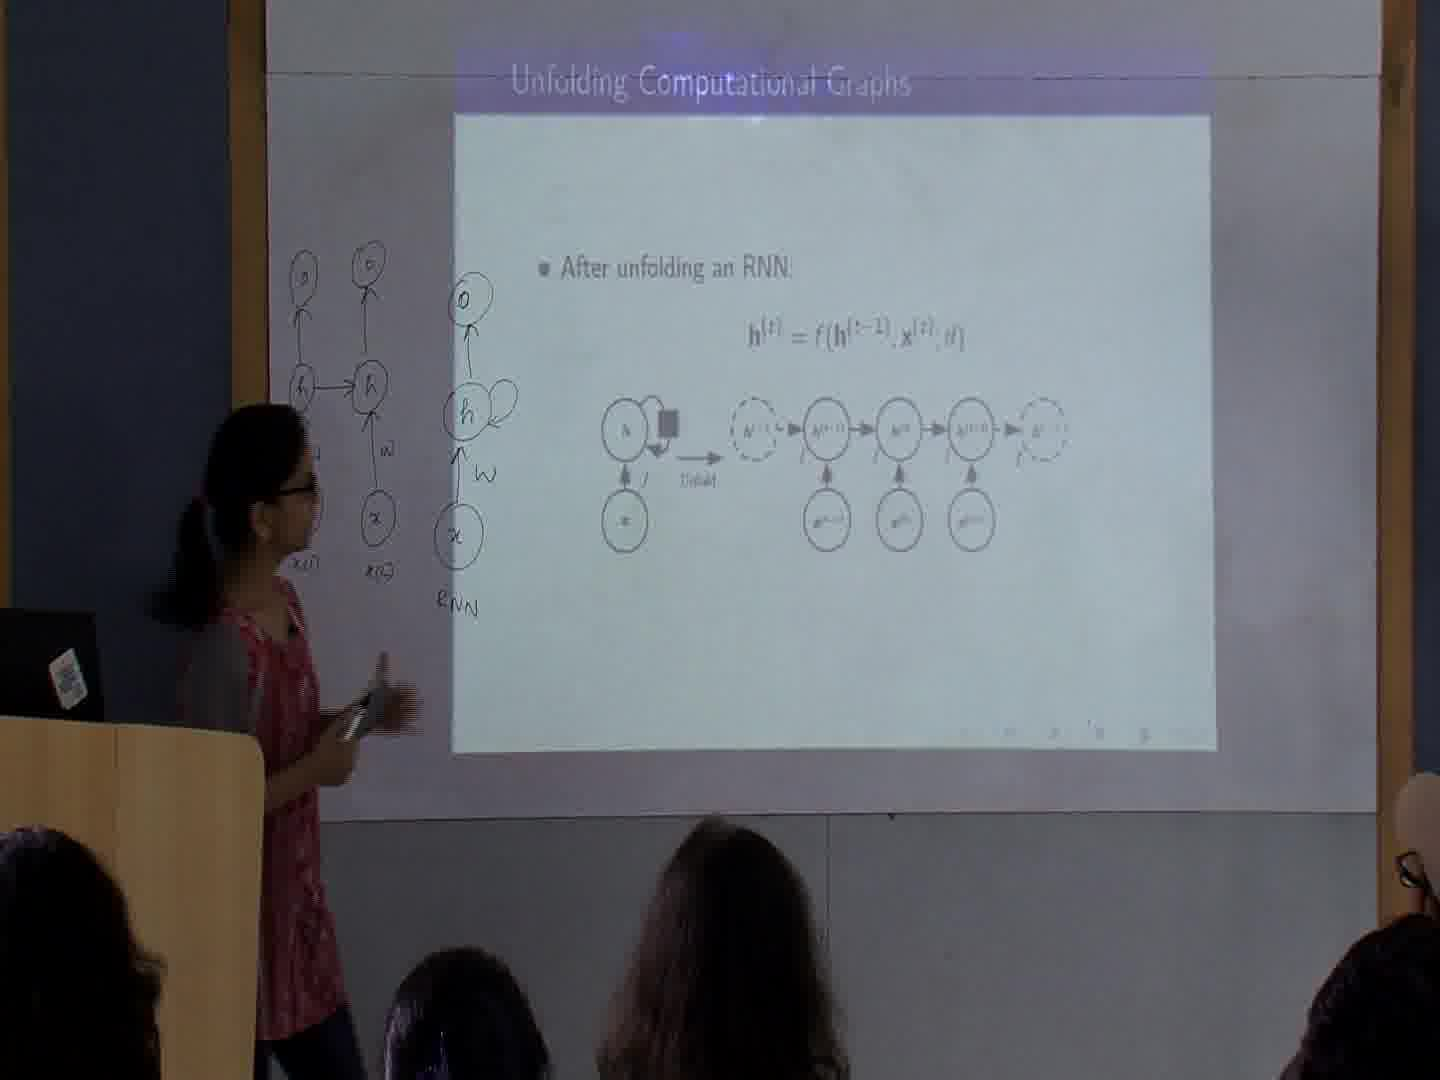eq: (742, 312, 972, 358)
fig: (725, 394, 1070, 556)
